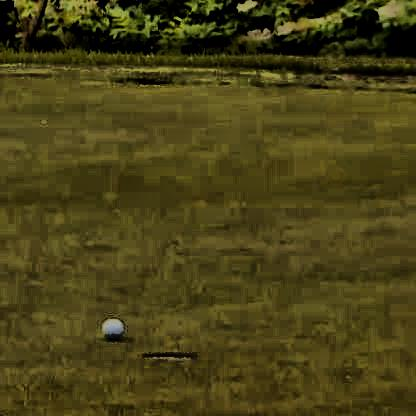golfball: (97, 313, 122, 340)
